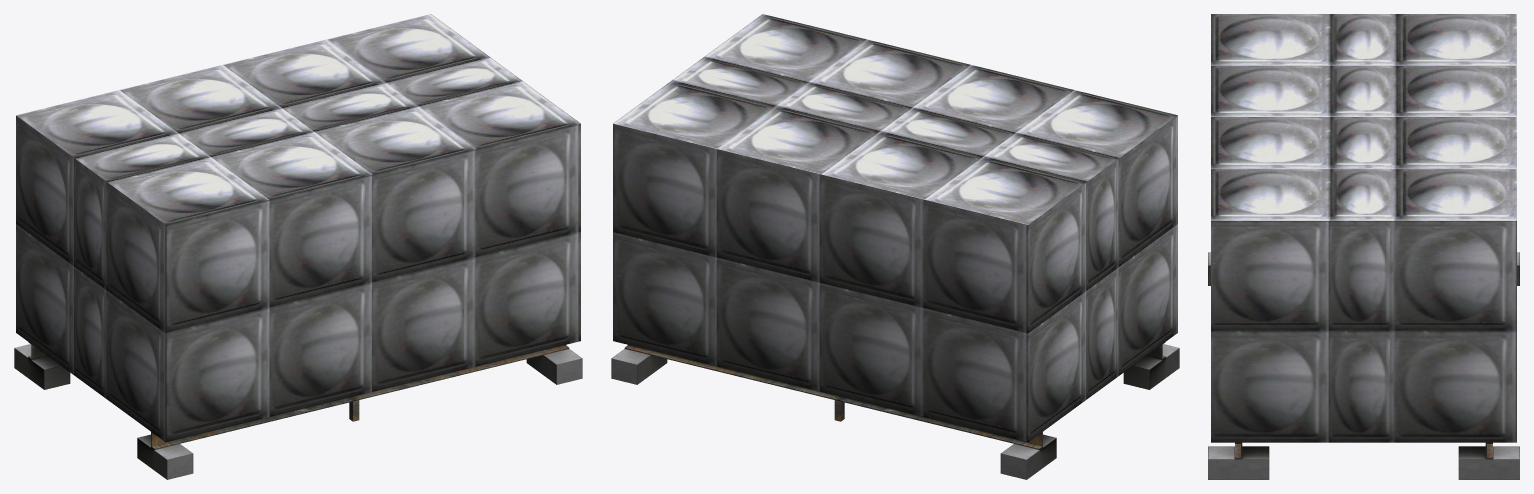
The model's file is bushuixiang2.FBX.
3 renders of one model, left to right at view 1: azimuth 30°, elevation 25°; view 2: azimuth 150°, elevation 25°; view 3: azimuth 270°, elevation 25°, orthographic. The views are drawn at different scales.
Parts seen in each view (by area): view 1: bushuixiang_body, bushuixiang; view 2: bushuixiang_body, bushuixiang; view 3: bushuixiang_body, bushuixiang.
Part boxes in pixels (x1,y1,x2,y2): bushuixiang_body: (16,14,580,442); bushuixiang: (14,342,582,479); bushuixiang_body: (613,14,1177,442); bushuixiang: (611,342,1179,479); bushuixiang_body: (1211,14,1516,442); bushuixiang: (1208,252,1519,479).
Bounding box in the file's own units: 400 × 234 × 255.
